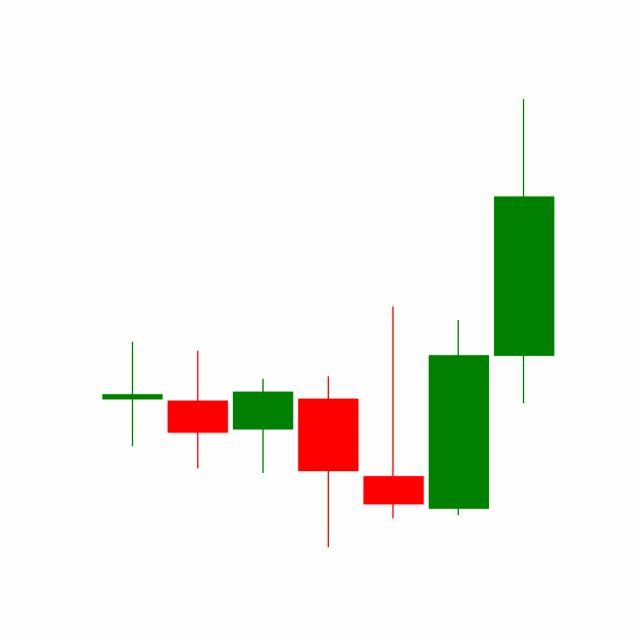Morning Star: (295, 303, 492, 548)
